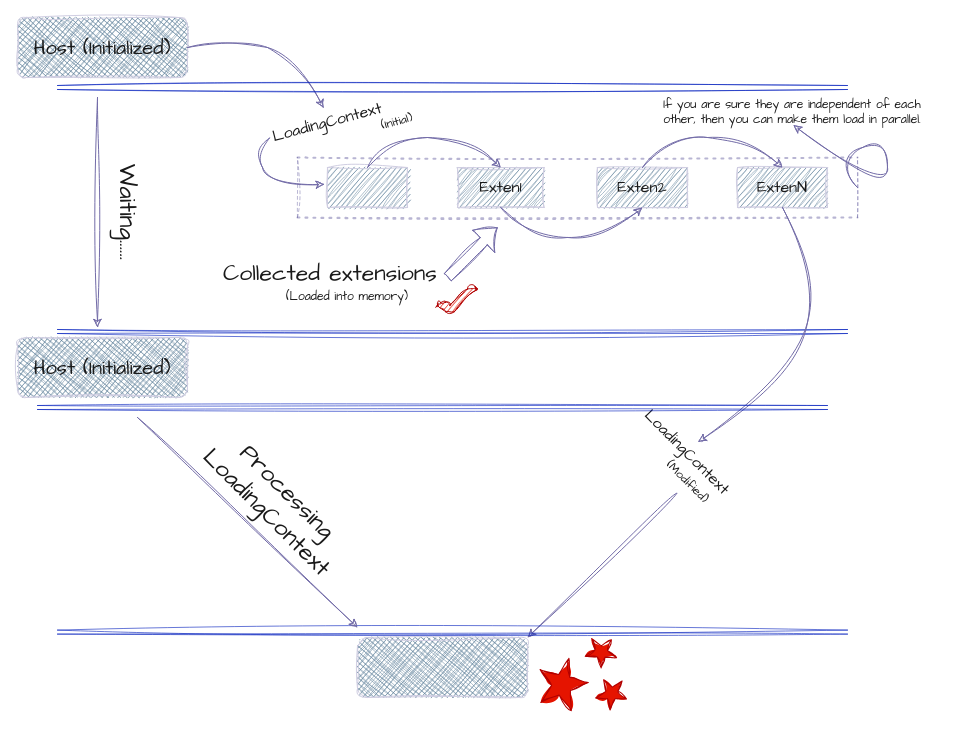
Some shapes in this 955 by 732 pixel diagram are drawn without their labels. Here are the shapes that lost their labels. From the top down, the box of each, then its label:
(326, 166, 408, 208): Exten0
(356, 636, 528, 698): Host (Started)
